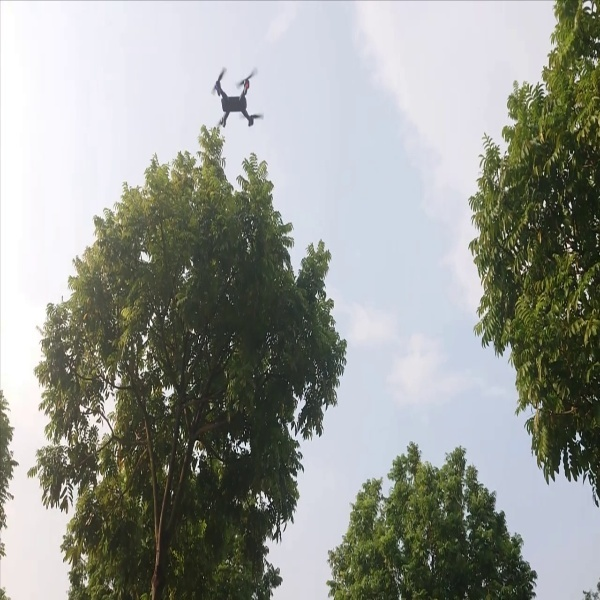drone: (205, 59, 268, 135)
